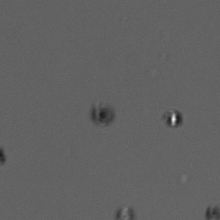Dead Cell: (91, 103, 114, 126)
Living Cell: (163, 109, 181, 128)
